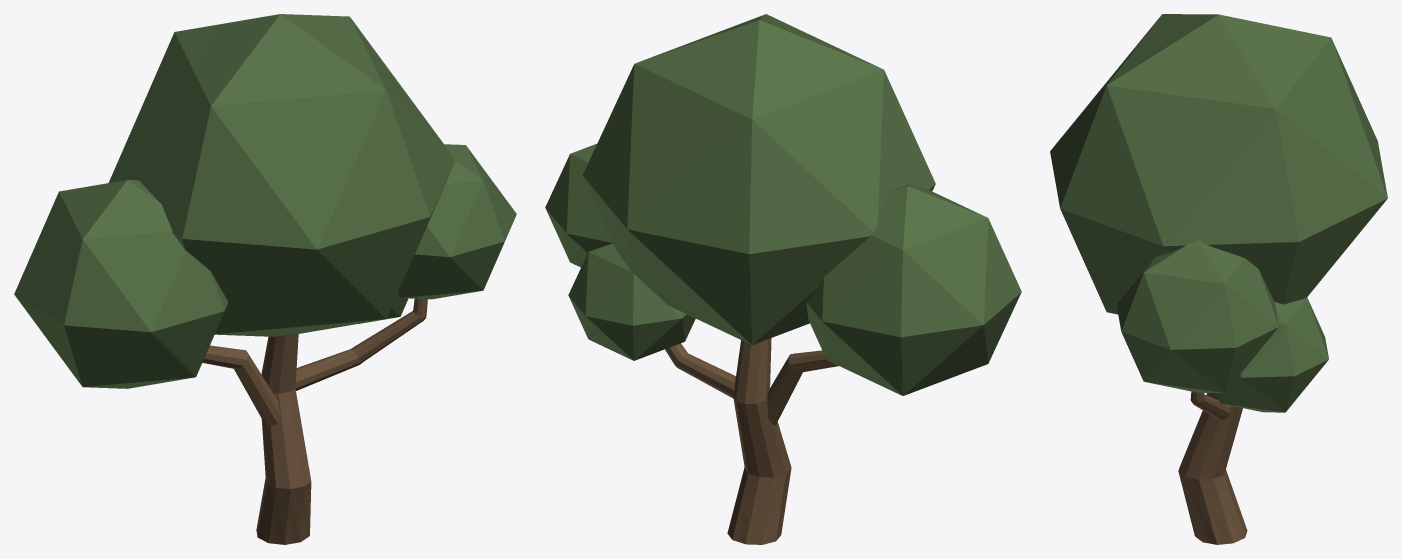
File: tree_green_2.glb
3 views of the same model, side by side, from view 1: azimuth 30°, elevation 25°; view 2: azimuth 150°, elevation 25°; view 3: azimuth 270°, elevation 25° (orthographic).
Visible parts, largest first — view 1: Tree Green 2; view 2: Tree Green 2; view 3: Tree Green 2.
Part boxes in pixels (<box>): Tree Green 2: <box>14,14,516,544</box>; Tree Green 2: <box>545,14,1021,544</box>; Tree Green 2: <box>1050,14,1387,544</box>.
Bounding box in the file's own units: 0.2846 × 0.3088 × 0.1827.
